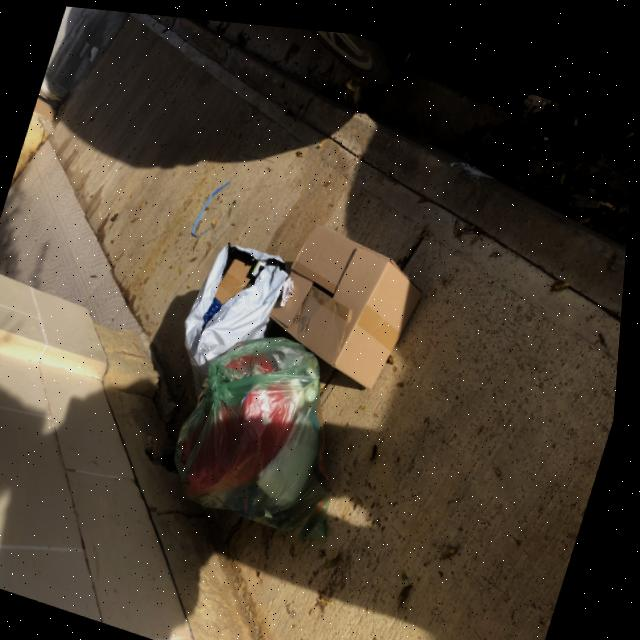Other: (256, 202, 442, 397), (171, 225, 298, 385)
Recycled Waste -Grey or Green Bag-: (162, 301, 398, 551)
